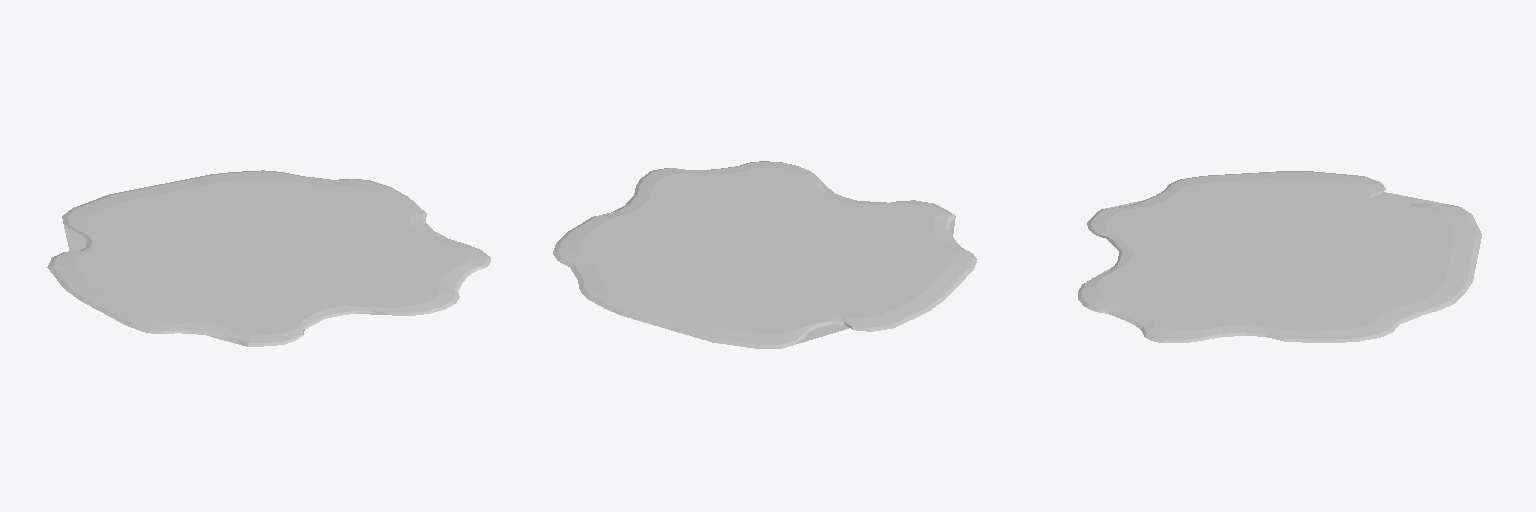
The model's file is flaque.obj.
The picture shows the model from 3 angles: view 1: azimuth 30°, elevation 25°; view 2: azimuth 150°, elevation 25°; view 3: azimuth 270°, elevation 25°; orthographic projection.
Parts seen in each view (by area): view 1: Plan; view 2: Plan; view 3: Plan.
Part boxes in pixels (left/top/right/bottom): Plan: left=47, top=170, right=490, bottom=346; Plan: left=553, top=161, right=977, bottom=348; Plan: left=1078, top=171, right=1481, bottom=342.
Bounding box in the file's own units: 0.9802 × 0.0074 × 0.9741.